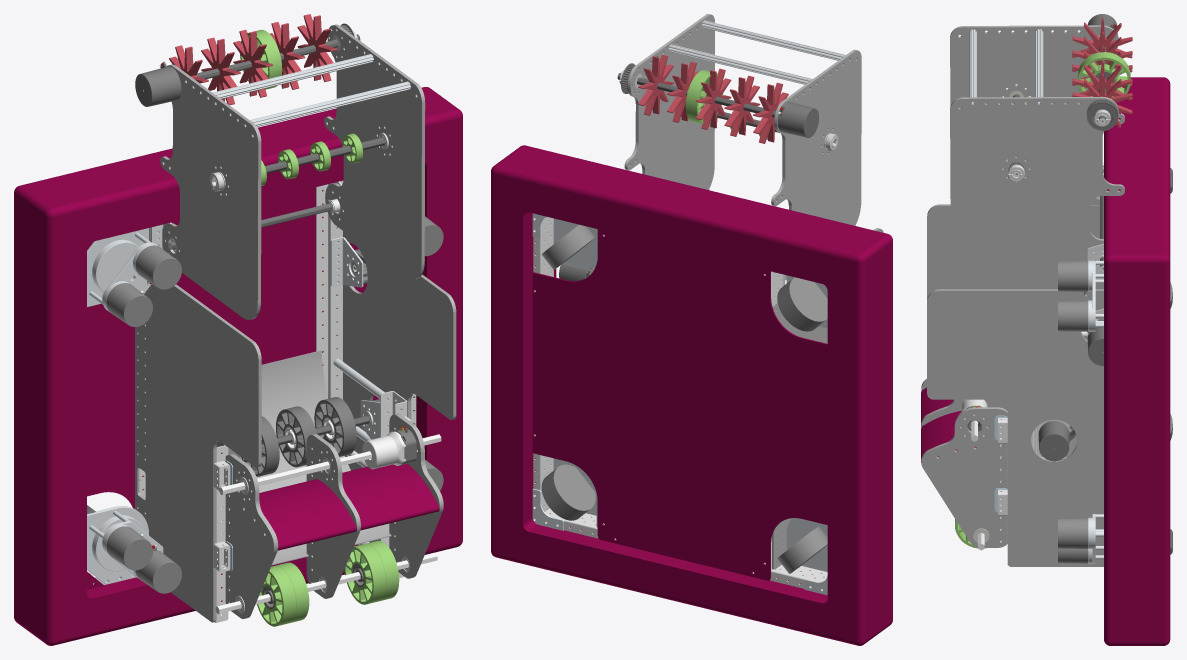
3 renders of one model, left to right at view 1: azimuth 30°, elevation 25°; view 2: azimuth 150°, elevation 25°; view 3: azimuth 270°, elevation 25°, orthographic. The views are drawn at different scales.
Visible parts, largest first — view 1: Part 1 (×11), Bumper (×2), Simplified MK4 (×2), 4" Compliant Wheel (35A, 1" Wide, 1/2" Hex Bore) (×8), VersaFrame C-Channel (×3), 5" Entrapption Star (40A, 1/2" Hex Bore) (×5), am-2569 500 Cross Hex Tube, 2000 (×2), 1/2" Hex (17" L, 7075 Aluminum) (×2), NEO Brushless Motor V1.1, Motor Mount, 1/2" Rounded Hex (15" L, 13.75mm OD) (×2), mesh5239_mesh (+1 smaller); view 2: Part 1 (×4), Bumper (×2), Simplified MK4 (×4), 5" Entrapption Star (40A, 1/2" Hex Bore) (×5), VersaFrame C-Channel (×2), am-2569 500 Cross Hex Tube, 2000 (×2), NEO Brushless Motor V1.1, 4" Compliant Wheel (35A, 1" Wide, 1/2" Hex Bore), 1 in. 90 Deg. Gusset (am-3860); view 3: Part 1 (×8), Bumper (×2), Simplified MK4 (×2), 5" Entrapption Star (40A, 1/2" Hex Bore) (×4), NEO Brushless Motor V1.1 (×2), am-2569 500 Cross Hex Tube, 2000 (×2), 4" Compliant Wheel (35A, 1" Wide, 1/2" Hex Bore), 36t Aluminum Pulley (HTD 5mm, 9mm Wide, 1/2" Hex Bore).
Boxes of the visible parts, x1,y1,x2,y2 form: Part 1 (×11): (87, 24, 456, 622); Bumper (×2): (14, 87, 462, 645); Simplified MK4 (×2): (87, 228, 181, 593); 4" Compliant Wheel (35A, 1" Wide, 1/2" Hex Bore) (×8): (240, 29, 399, 626); VersaFrame C-Channel (×3): (214, 183, 407, 622); 5" Entrapption Star (40A, 1/2" Hex Bore) (×5): (169, 14, 337, 105); am-2569 500 Cross Hex Tube, 2000 (×2): (213, 54, 410, 126); 1/2" Hex (17" L, 7075 Aluminum) (×2): (215, 434, 441, 613); NEO Brushless Motor V1.1: (135, 61, 181, 106); Motor Mount: (330, 237, 363, 287); 1/2" Rounded Hex (15" L, 13.75mm OD) (×2): (168, 34, 360, 249); mesh5239_mesh: (362, 431, 405, 469); Part 1 (×4): (532, 14, 883, 580); Bumper (×2): (491, 145, 892, 645); Simplified MK4 (×4): (541, 218, 827, 573); 5" Entrapption Star (40A, 1/2" Hex Bore) (×5): (638, 54, 788, 143); VersaFrame C-Channel (×2): (533, 217, 827, 590); am-2569 500 Cross Hex Tube, 2000 (×2): (668, 20, 845, 84); NEO Brushless Motor V1.1: (777, 101, 818, 137); 4" Compliant Wheel (35A, 1" Wide, 1/2" Hex Bore): (685, 70, 723, 124); 1 in. 90 Deg. Gusset (am-3860): (532, 488, 563, 530); Part 1 (×8): (921, 25, 1124, 566); Bumper (×2): (1104, 77, 1170, 645); Simplified MK4 (×2): (1058, 260, 1172, 563); 5" Entrapption Star (40A, 1/2" Hex Bore) (×4): (1072, 17, 1132, 128); NEO Brushless Motor V1.1 (×2): (1038, 327, 1103, 461); am-2569 500 Cross Hex Tube, 2000 (×2): (969, 29, 1043, 103); 4" Compliant Wheel (35A, 1" Wide, 1/2" Hex Bore): (1077, 52, 1130, 96); 36t Aluminum Pulley (HTD 5mm, 9mm Wide, 1/2" Hex Bore): (1086, 99, 1117, 130).
Size of the model in its own units: 0.8255 by 1.07 by 0.4823.
